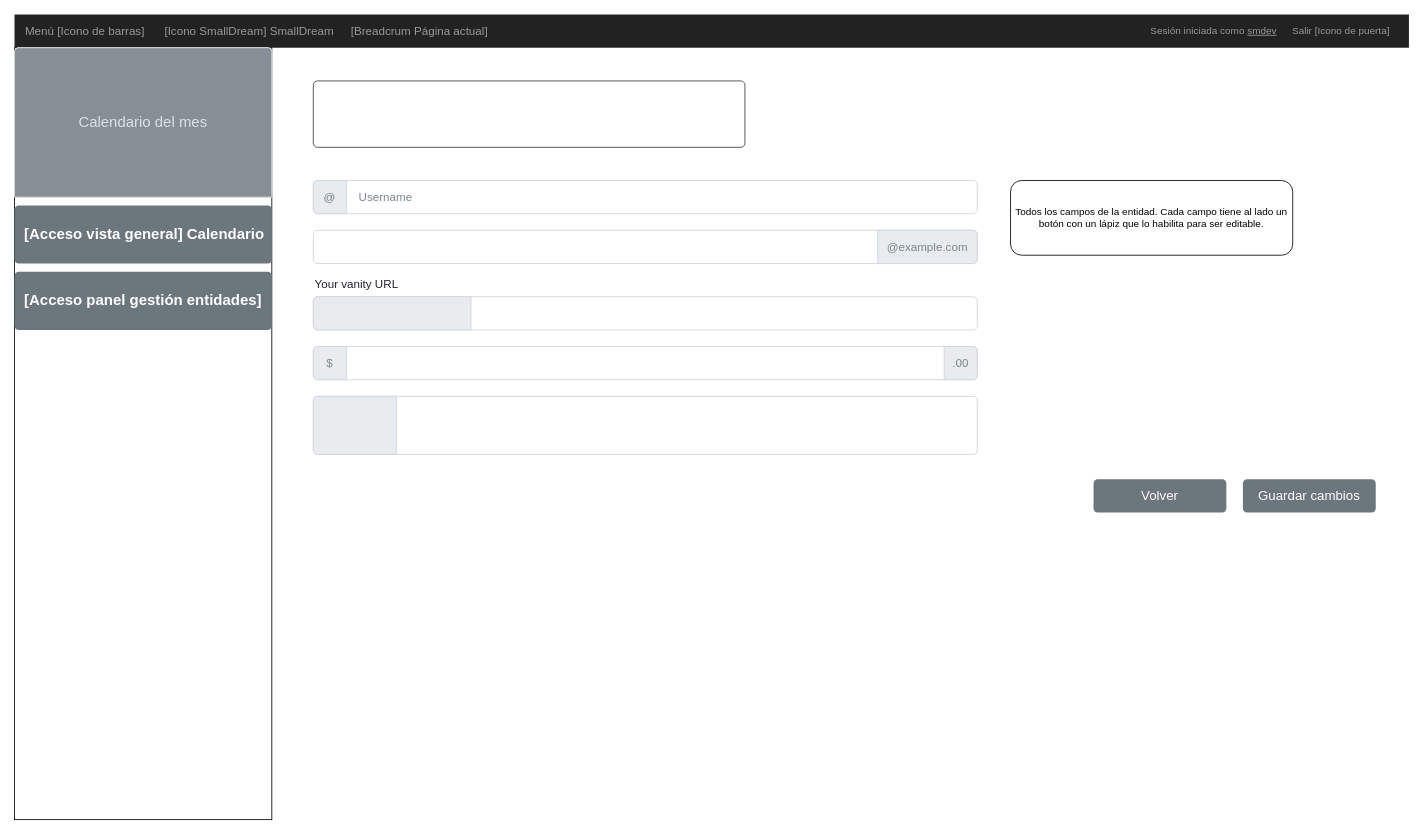
Image size: 1423x834. Some labels were removed from this diagram. Each missing label, with the centre of its shape:
[NOMBRE ENTIDAD]: the point at 528,113
http://example.com/users/: the point at 391,313
Recipient's username: the point at 644,246
With textarea: the point at 354,424
